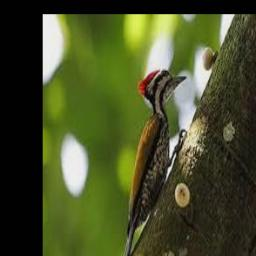Woodpecker: (120, 70, 187, 256)
